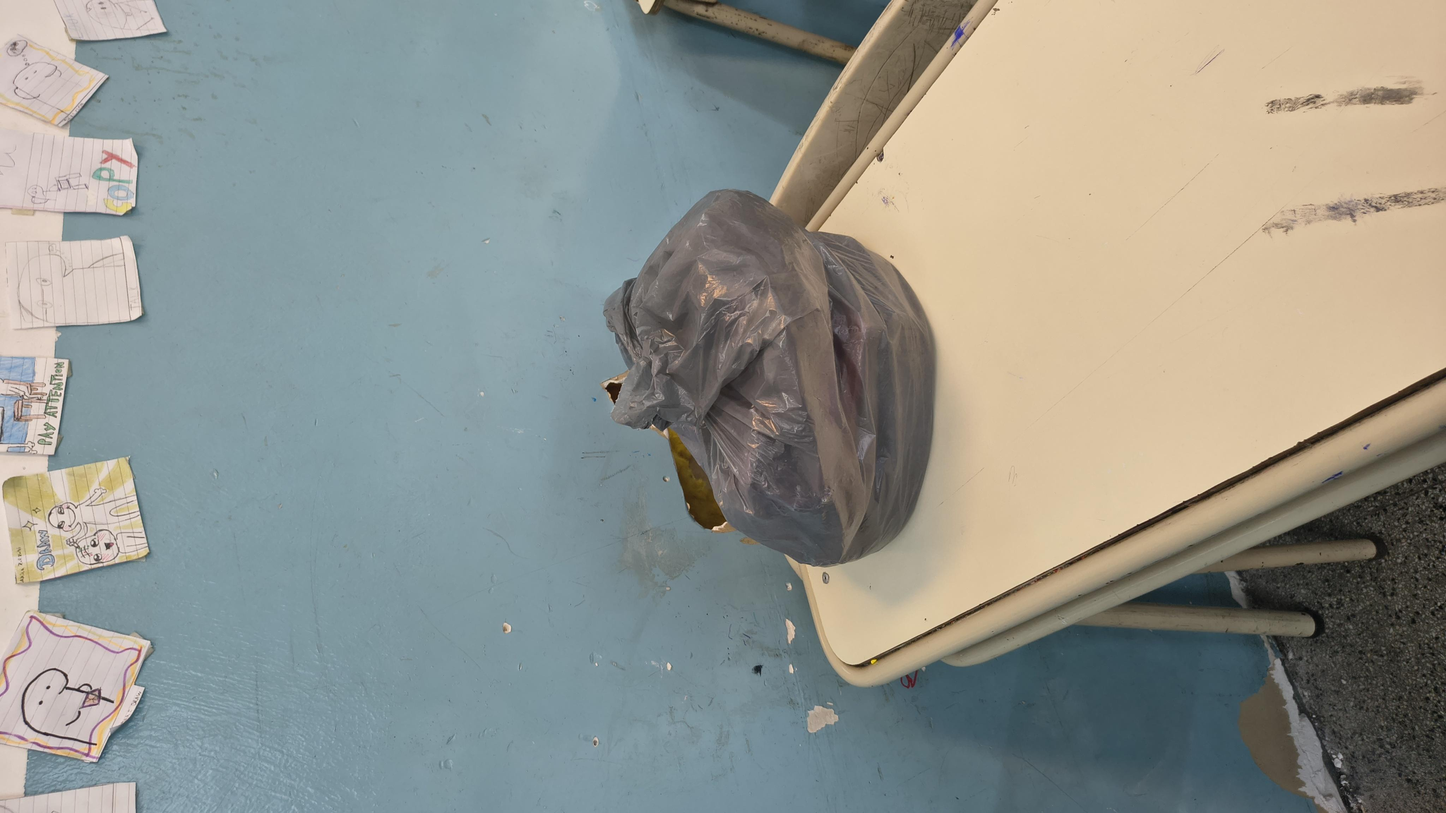Garbage: (370, 308, 1230, 548)
